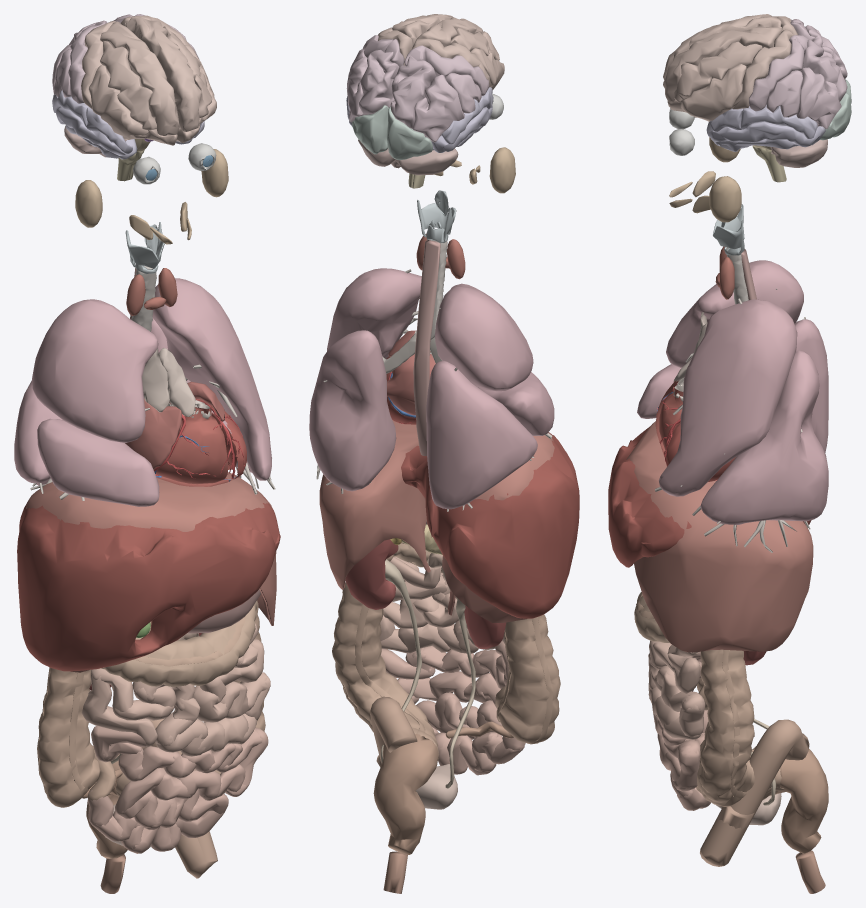
Rendered from organos.l.glb.
3 views of the same model, side by side, from view 1: azimuth 30°, elevation 25°; view 2: azimuth 150°, elevation 25°; view 3: azimuth 270°, elevation 25° (orthographic). The views are drawn at different scales.
Parts seen in each view (by area): view 1: capa; view 2: capa; view 3: capa.
Boxes of the visible parts, left/top/right/bottom form: capa: left=14, top=14, right=280, bottom=893; capa: left=309, top=14, right=579, bottom=893; capa: left=608, top=14, right=851, bottom=893.
Size of the model in its own units: 0.2594 by 0.9128 by 0.232.
